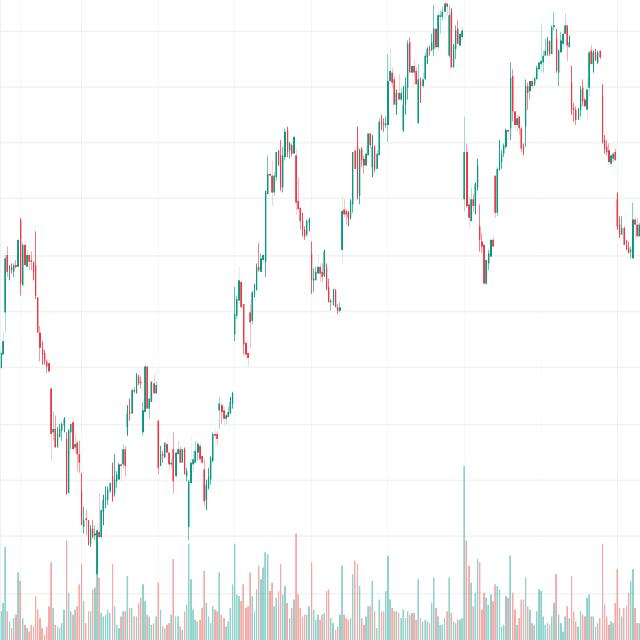Channel-up: (320, 0, 480, 270)
Rounding-Bottom: (152, 386, 236, 526)
